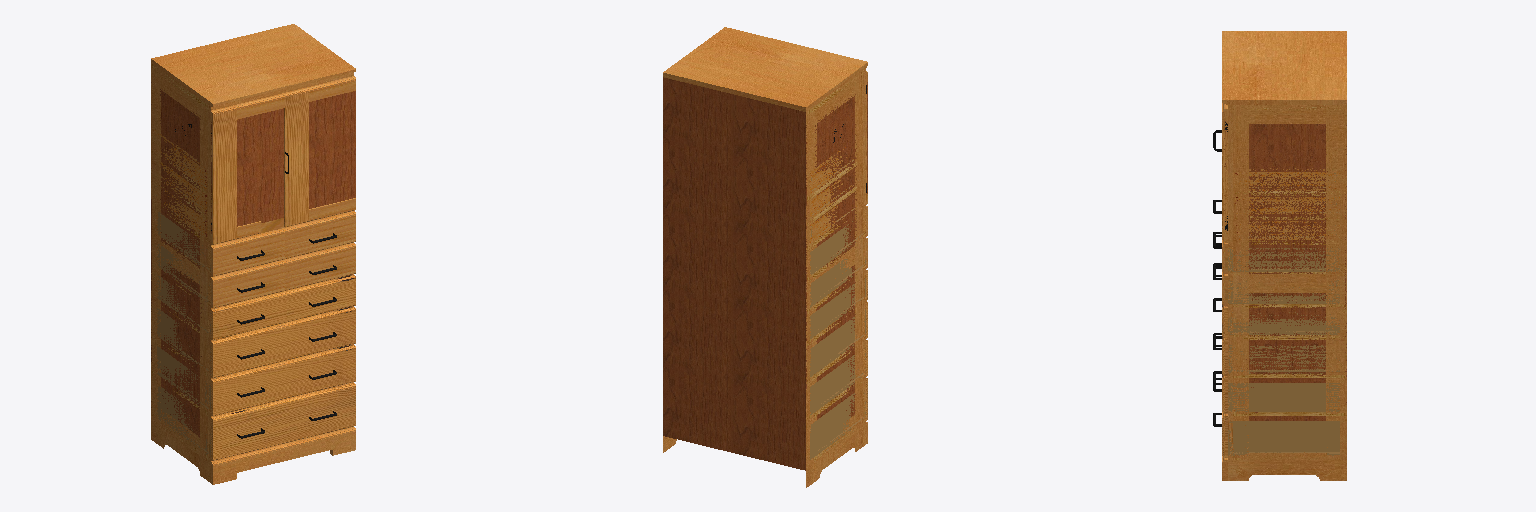
3 renders of one model, left to right at view 1: azimuth 30°, elevation 25°; view 2: azimuth 150°, elevation 25°; view 3: azimuth 270°, elevation 25°, orthographic.
Visible parts, largest first — view 1: Mesh256 top1 Component1 Model, Mesh236 G_6__drawer_face1 Group29 Component1 Model, Mesh25 G_5__drawer_face2 Group4 Component1 Model, Mesh15 G_5__drawer_face1 Group3 Component1 Model, Mesh219 door_panel2 Group27 Component1 Model, Mesh213 door_panel1 Group26 Component1 Model, Mesh40 G_4__drawer_face1 Group5 Component1 Model, Mesh179 side_panel3 Group24 Component1 Model, Mesh253 base_board1 Component1 Model, Mesh180 side_panel4 Group24 Component1 Model, Mesh217 door_stile3 Group27 Component1 Model, Mesh208 door_stile1 Group26 Component1 Model (+19 smaller); view 2: Mesh257 back_panel1 Component1 Model, Mesh256 top1 Component1 Model, Mesh180 side_panel4 Group24 Component1 Model, Mesh177 side_front_stile2 Group24 Component1 Model, Mesh175 side_rear_stile2 Group24 Component1 Model, Mesh238 G_6__drawer_side2 Group29 Component1 Model, Mesh24 G_5__drawer_side4 Group4 Component1 Model, Mesh14 G_5__drawer_side2 Group3 Component1 Model, Mesh179 side_panel3 Group24 Component1 Model, Mesh37 __drawer_side1 Group5 Component1 Model, Mesh253 base_board1 Component1 Model, Mesh49 __drawer_side4 Group6 Component1 Model (+3 smaller); view 3: Mesh256 top1 Component1 Model, Mesh7 side_panel2 Group1 Component1 Model, Mesh2 side_rear_stile1 Group1 Component1 Model, Mesh4 side_front_stile1 Group1 Component1 Model, Mesh6 side_panel1 Group1 Component1 Model, Mesh237 G_6__drawer_side1 Group29 Component1 Model, Mesh13 G_5__drawer_side1 Group3 Component1 Model, Mesh253 base_board1 Component1 Model, Mesh1 side_upper_lower_rail1 Group1 Component1 Model, Mesh5 side_center_stile1 Group1 Component1 Model, Mesh41 __drawer_side2 Group5 Component1 Model, Mesh72 __drawer_side9 Group9 Component1 Model (+8 smaller).
Boxes of the visible parts, box(x1,y1,x2,y2) form: Mesh256 top1 Component1 Model: box(151, 24, 355, 106); Mesh236 G_6__drawer_face1 Group29 Component1 Model: box(211, 382, 355, 460); Mesh25 G_5__drawer_face2 Group4 Component1 Model: box(211, 306, 355, 378); Mesh15 G_5__drawer_face1 Group3 Component1 Model: box(211, 344, 355, 416); Mesh219 door_panel2 Group27 Component1 Model: box(211, 108, 283, 233); Mesh213 door_panel1 Group26 Component1 Model: box(309, 91, 355, 208); Mesh40 G_4__drawer_face1 Group5 Component1 Model: box(211, 274, 355, 339); Mesh179 side_panel3 Group24 Component1 Model: box(161, 263, 201, 437); Mesh253 base_board1 Component1 Model: box(151, 418, 355, 484); Mesh180 side_panel4 Group24 Component1 Model: box(160, 89, 200, 268); Mesh217 door_stile3 Group27 Component1 Model: box(211, 105, 236, 244); Mesh208 door_stile1 Group26 Component1 Model: box(282, 88, 308, 227); Mesh257 back_panel1 Component1 Model: box(663, 77, 806, 470); Mesh256 top1 Component1 Model: box(663, 27, 867, 111); Mesh180 side_panel4 Group24 Component1 Model: box(815, 94, 856, 266); Mesh177 side_front_stile2 Group24 Component1 Model: box(855, 72, 862, 451); Mesh175 side_rear_stile2 Group24 Component1 Model: box(806, 109, 816, 487); Mesh238 G_6__drawer_side2 Group29 Component1 Model: box(810, 393, 865, 459); Mesh24 G_5__drawer_side4 Group4 Component1 Model: box(810, 309, 865, 376); Mesh14 G_5__drawer_side2 Group3 Component1 Model: box(810, 348, 865, 414); Mesh179 side_panel3 Group24 Component1 Model: box(816, 265, 856, 419); Mesh37 __drawer_side1 Group5 Component1 Model: box(810, 278, 865, 338); Mesh253 base_board1 Component1 Model: box(663, 422, 867, 484); Mesh49 __drawer_side4 Group6 Component1 Model: box(810, 258, 865, 307); Mesh256 top1 Component1 Model: box(1222, 31, 1346, 104); Mesh7 side_panel2 Group1 Component1 Model: box(1245, 124, 1328, 273); Mesh2 side_rear_stile1 Group1 Component1 Model: box(1326, 105, 1346, 480); Mesh4 side_front_stile1 Group1 Component1 Model: box(1233, 105, 1248, 480); Mesh6 side_panel1 Group1 Component1 Model: box(1246, 293, 1326, 420); Mesh237 G_6__drawer_side1 Group29 Component1 Model: box(1228, 421, 1339, 455); Mesh13 G_5__drawer_side1 Group3 Component1 Model: box(1228, 383, 1339, 411); Mesh253 base_board1 Component1 Model: box(1222, 456, 1346, 480); Mesh1 side_upper_lower_rail1 Group1 Component1 Model: box(1245, 105, 1328, 123); Mesh5 side_center_stile1 Group1 Component1 Model: box(1249, 274, 1328, 292); Mesh41 __drawer_side2 Group5 Component1 Model: box(1228, 312, 1339, 334); Mesh72 __drawer_side9 Group9 Component1 Model: box(1228, 248, 1339, 271).
Size of the model in its own units: 600 by 1524 by 484.
Materials: 11 (7 with a texture image).